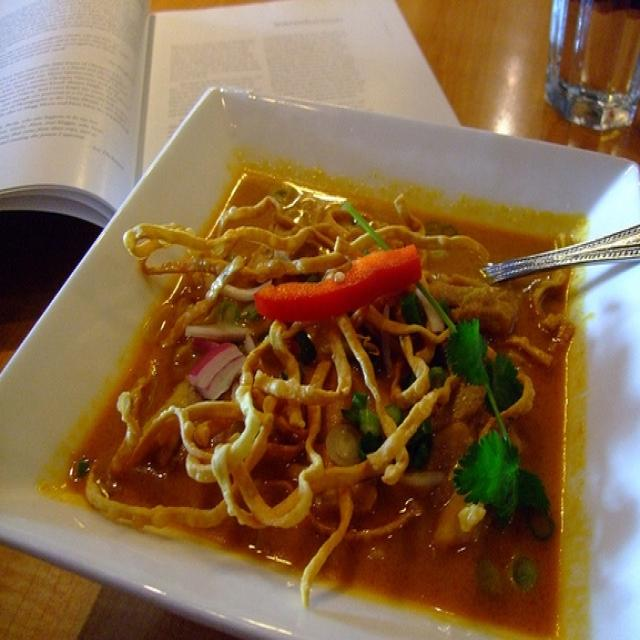面条主食: (81, 146, 566, 624)
